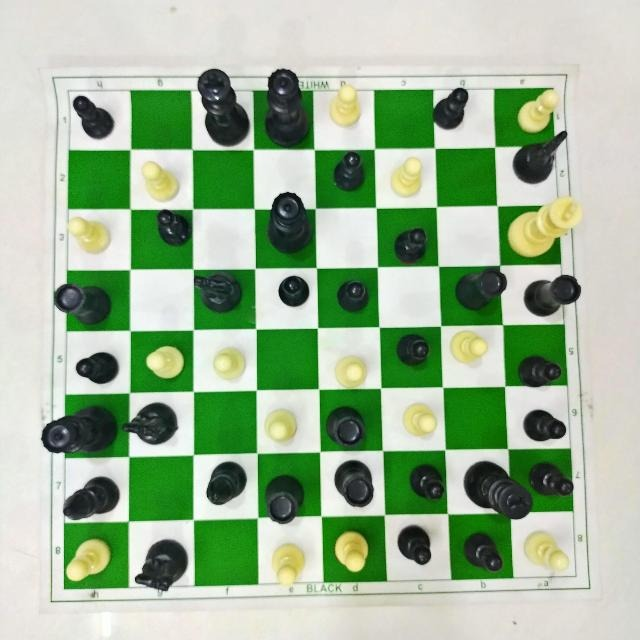black-bishop: (57, 475, 121, 528), (201, 462, 247, 511)
black-king: (463, 460, 537, 521), (195, 66, 252, 144)
black-knight: (511, 129, 569, 184), (132, 539, 190, 593), (123, 402, 179, 446), (192, 269, 246, 314)
black-pawn: (68, 90, 116, 139), (461, 525, 508, 575), (68, 348, 120, 387), (526, 459, 578, 498), (433, 82, 471, 132), (396, 524, 434, 569), (516, 354, 564, 389), (152, 208, 193, 247), (522, 406, 566, 442), (407, 461, 446, 501), (389, 225, 430, 263), (395, 331, 432, 371), (334, 147, 364, 193), (336, 279, 372, 313), (276, 273, 312, 306)
black-queen: (40, 405, 117, 457), (263, 68, 310, 146), (267, 194, 313, 258)
black-rook: (524, 276, 584, 321), (261, 472, 308, 527), (457, 264, 509, 312), (51, 282, 112, 321), (334, 458, 378, 508), (325, 407, 369, 447)
white-king: (506, 195, 581, 257)
white-pawn: (63, 537, 111, 584), (515, 87, 561, 132), (267, 540, 306, 588), (524, 527, 567, 570), (66, 214, 111, 254), (140, 158, 180, 201), (447, 327, 491, 366), (334, 528, 372, 572), (140, 343, 184, 379), (400, 400, 439, 439), (328, 354, 372, 387), (327, 86, 360, 130), (391, 156, 423, 198), (266, 405, 299, 445), (213, 343, 246, 383)
